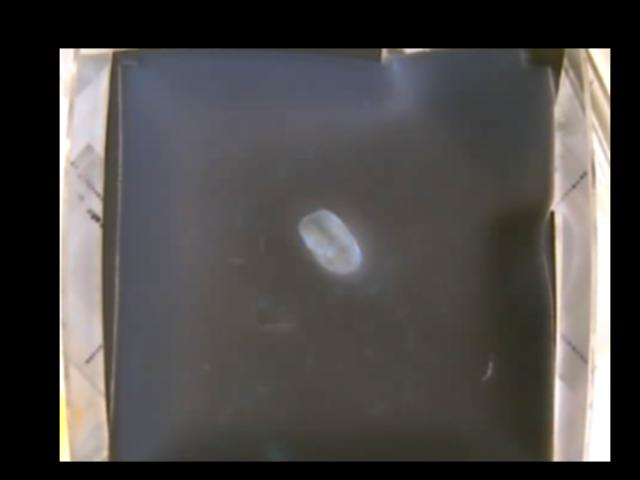Pebble: (299, 208, 363, 274)
